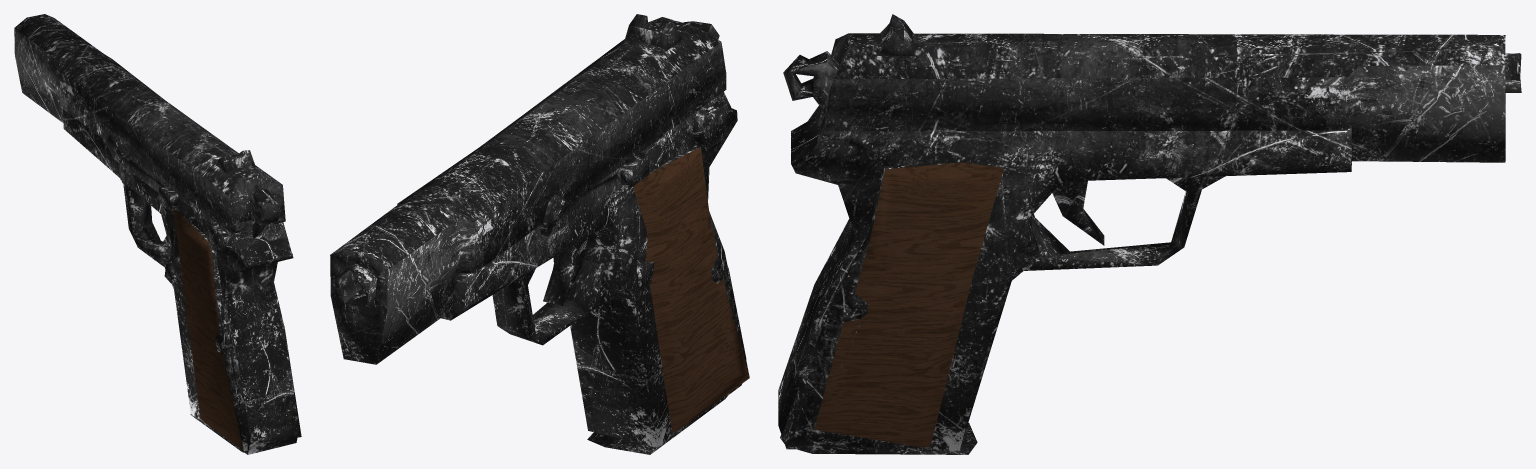
The model's file is gun.glb.
3 views of the same model, side by side, from view 1: azimuth 30°, elevation 25°; view 2: azimuth 150°, elevation 25°; view 3: azimuth 270°, elevation 25° (orthographic). The views are drawn at different scales.
Visible parts, largest first — view 1: Magazine.001; view 2: Magazine.001; view 3: Magazine.001.
Boxes of the visible parts, x1,y1,x2,y2 form: Magazine.001: (14,14,301,454); Magazine.001: (330,14,749,454); Magazine.001: (778,14,1521,454).
Size of the model in its own units: 0.1259 by 0.5315 by 0.8595.
2 materials, 2 textured.
